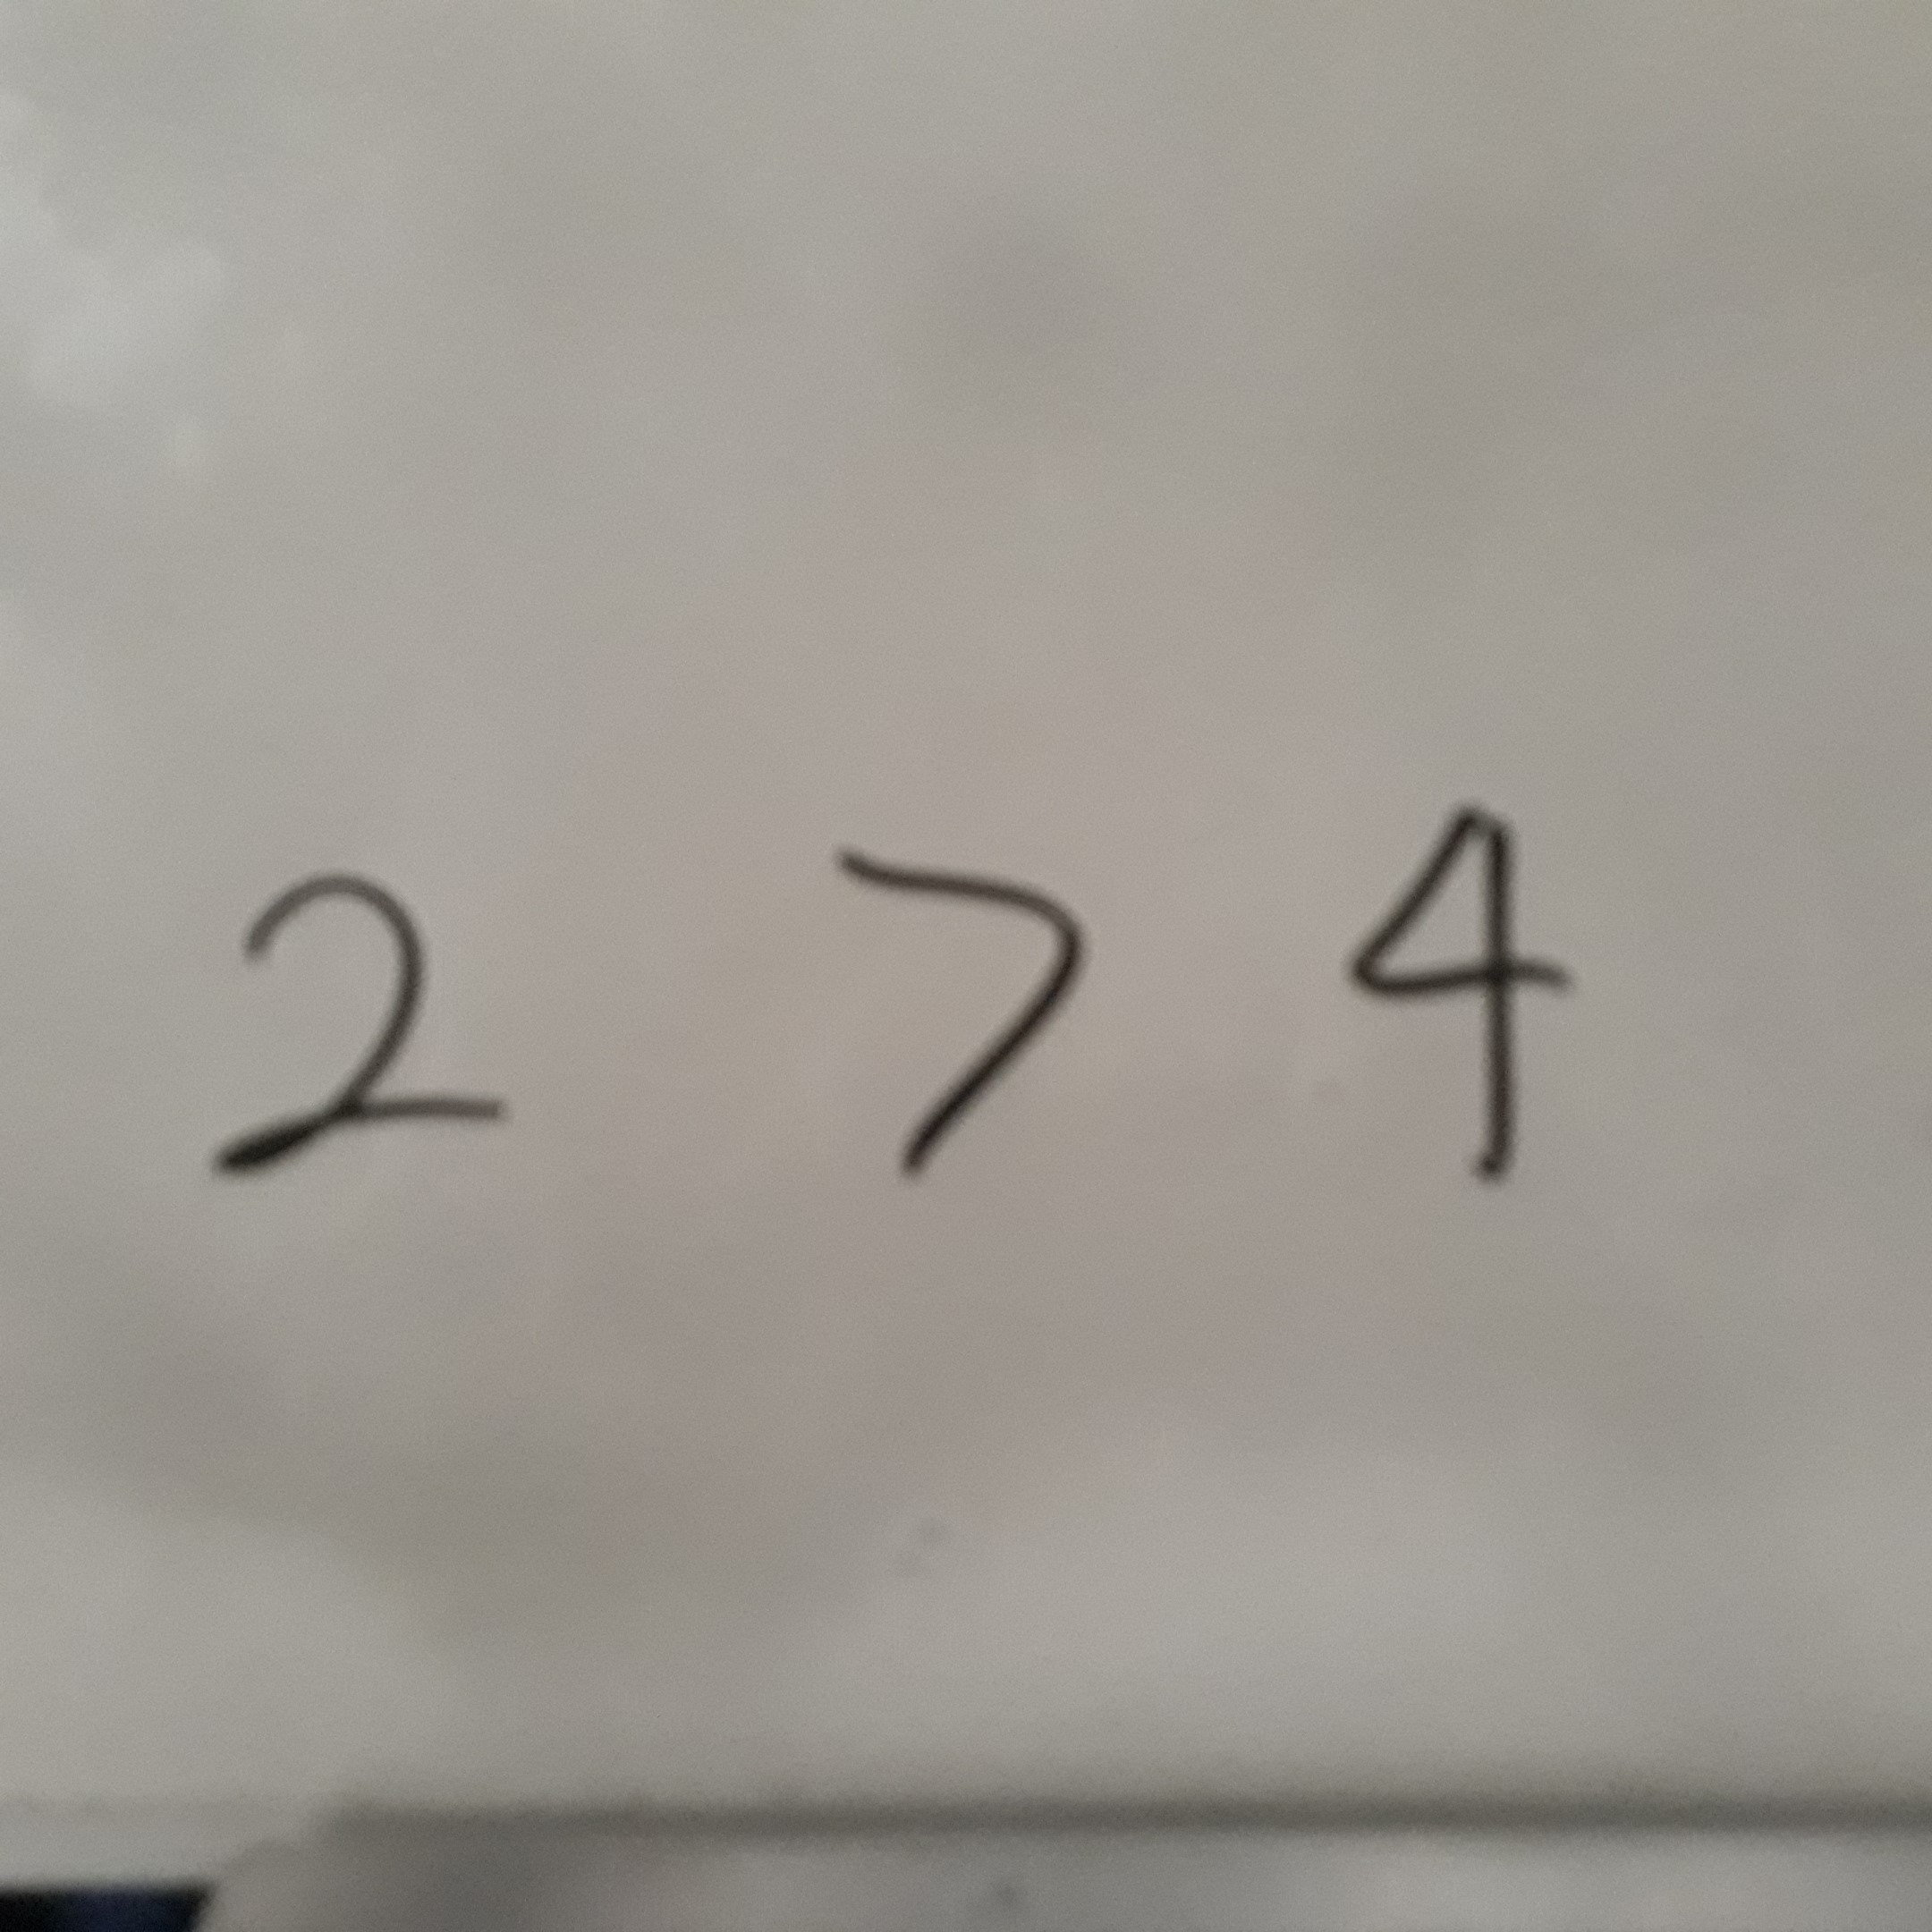morethan: (815, 801, 1123, 1207)
num2: (213, 839, 521, 1246)
num4: (1298, 795, 1606, 1202)
